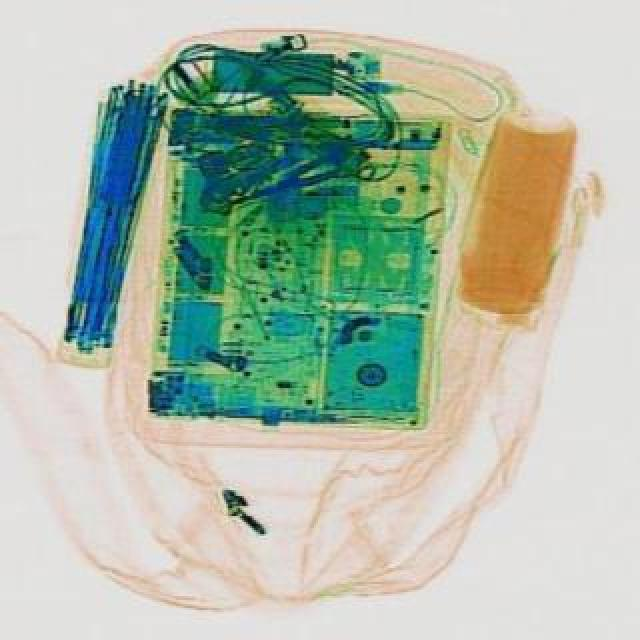wrench: (248, 146, 344, 202)
